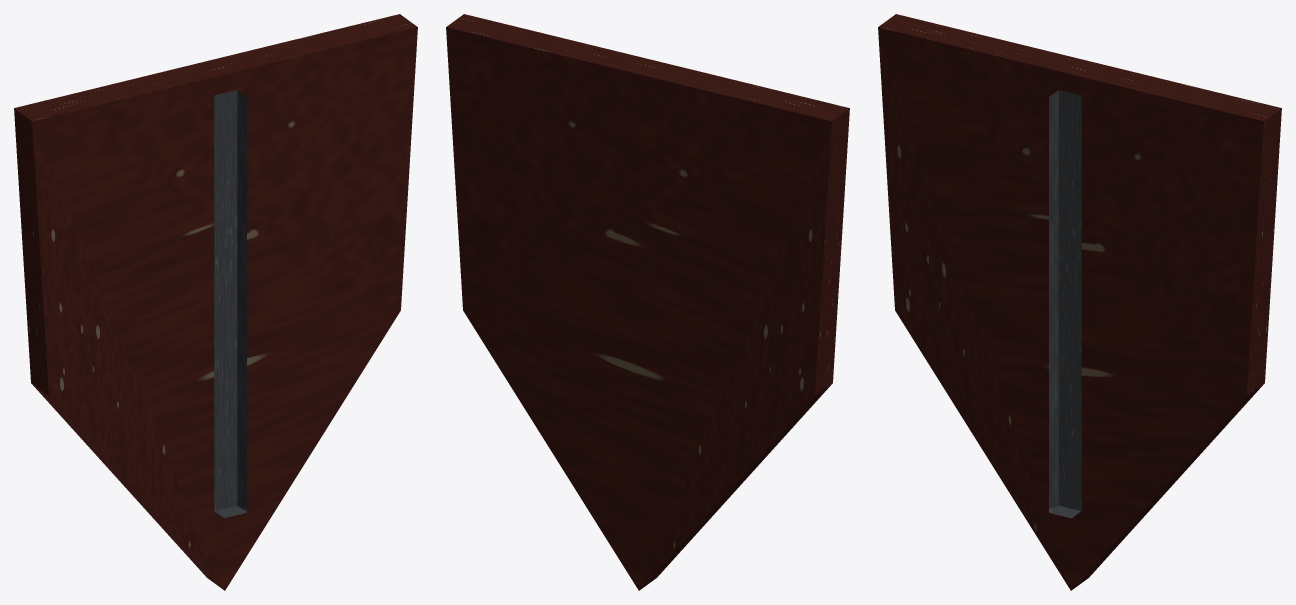
File: kite_shield.glb
3 views of the same model, side by side, from view 1: azimuth 30°, elevation 25°; view 2: azimuth 150°, elevation 25°; view 3: azimuth 330°, elevation 25° (orthographic).
Parts seen in each view (by area): view 1: kite_shield; view 2: kite_shield; view 3: kite_shield.
Boxes of the visible parts, bbox=[...] form: kite_shield: bbox=[14, 14, 417, 590]; kite_shield: bbox=[446, 14, 849, 590]; kite_shield: bbox=[878, 14, 1281, 590].
Size of the model in its own units: 0.68 by 0.87 by 0.0875.
Materials: 2 (2 with a texture image).
